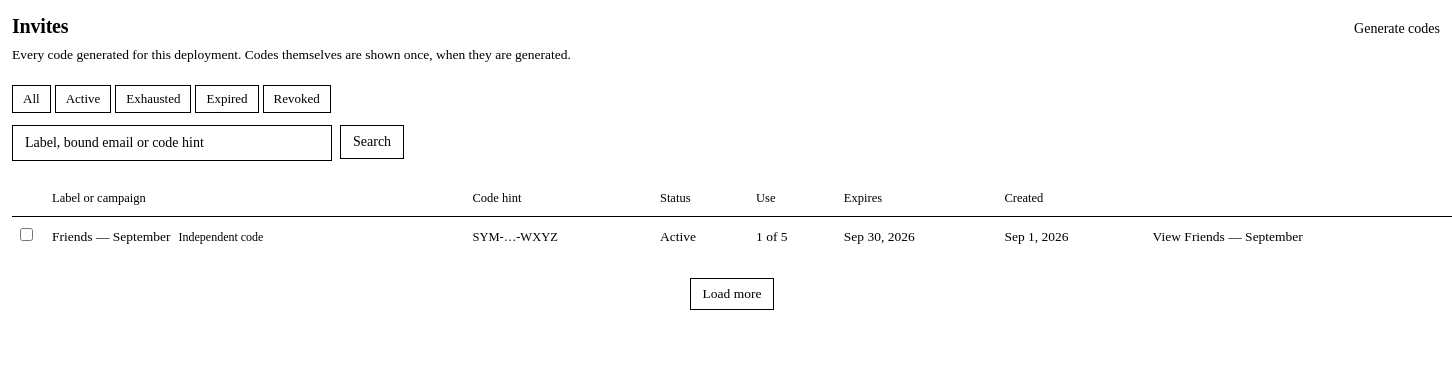
it: the invite inventory (admin_invites.md) › loads another page with the opaque cursor
Click the button "Load more" at (732, 294), box [690,278,774,310]
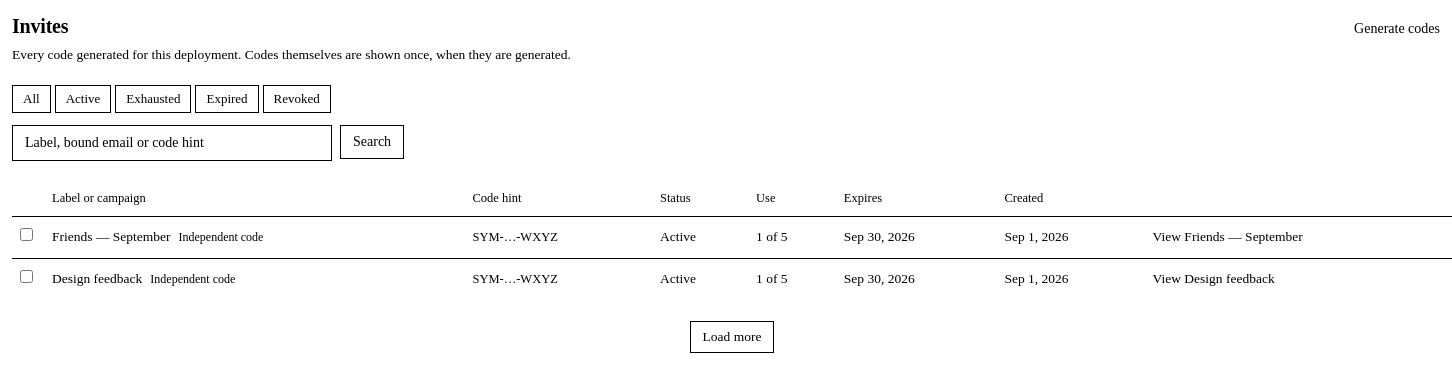
Expected: the text "Friends — September" is shown, [52,228,170,244]
Expected: the text "Design feedback" is shown, [52,271,142,286]
